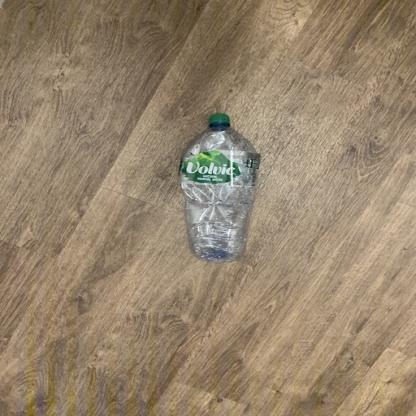trash: (178, 112, 261, 264)
